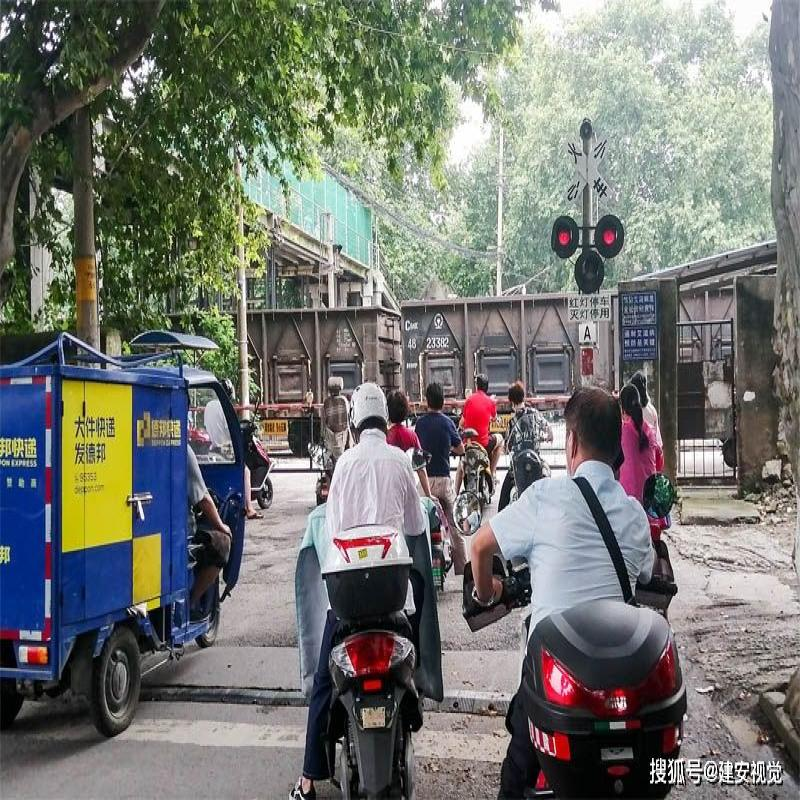train: (395, 262, 615, 405)
